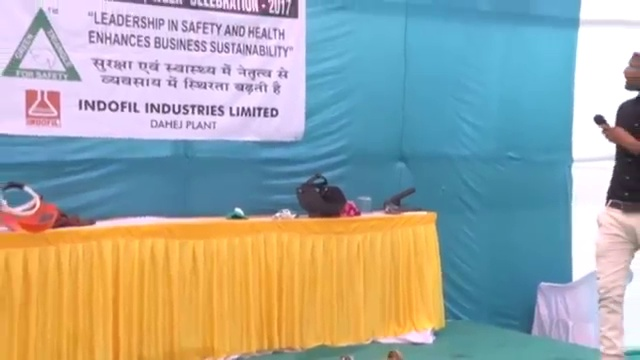person: (587, 49, 638, 359)
